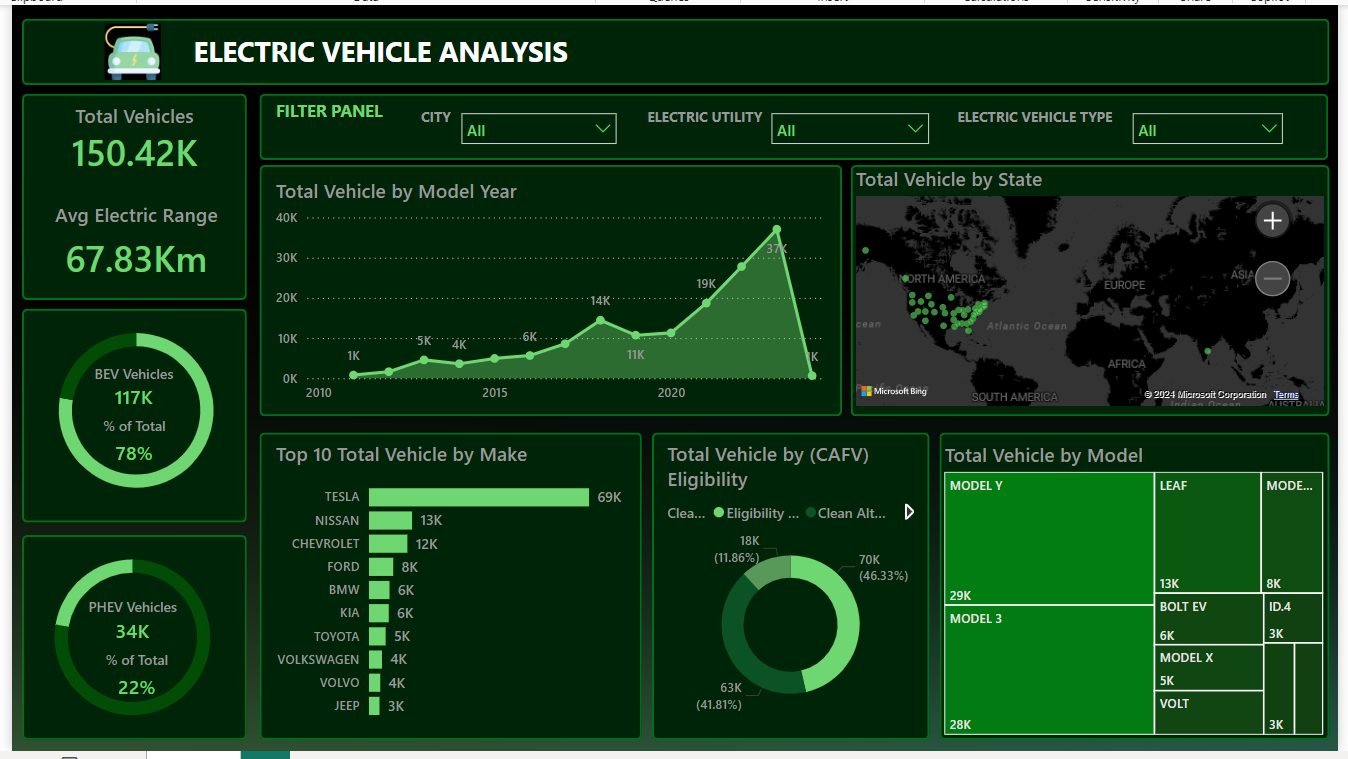

Layout of this report page (visuals, bound fields, positions):
{"tool":"powerbi","page":{"name":"Page 1","canvas":[1280,720],"ordinal":0},"visuals":[{"type":"shape","box":[9.7,13.3,1261.9,63.9],"z":0},{"type":"textbox","box":[170.1,21.7,499.5,45.8],"z":1000},{"type":"shape","box":[9.7,85.7,217.2,199.1],"z":2000},{"type":"shape","box":[9.7,293.2,217.2,206.3],"z":3000},{"type":"shape","box":[9.7,511.5,217.2,197.9],"z":4000},{"type":"shape","box":[809.5,154.4,462.1,242.5],"z":5000},{"type":"shape","box":[238.9,154.4,562.2,242.5],"z":6000},{"type":"shape","box":[895.2,412.6,376.4,296.8],"z":7000},{"type":"shape","box":[617.7,412.6,267.8,296.8],"z":8000},{"type":"shape","box":[238.9,412.6,369.2,296.8],"z":9000},{"type":"card","title":"Total Vehicles","fields":{"Values":["Electric_Vehicle_Population_Data.Total Vehicle"]},"box":[20.5,94.1,195.4,72.4],"z":10000},{"type":"card","title":"Avg Electric Range","fields":{"Values":["Electric_Vehicle_Population_Data.Avg Range"]},"box":[20.5,189.4,199.1,85.7],"z":11000},{"type":"donutChart","fields":{"Category":["Electric_Vehicle_Population_Data.Electric Vehicle Type"],"Y":["Electric_Vehicle_Population_Data.Total Vehicle"]},"box":[20.5,293.2,199.1,196.6],"z":12000},{"type":"card","title":"BEV Vehicles","fields":{"Values":["Electric_Vehicle_Population_Data.BEV Vehicles"]},"box":[50.7,346.2,133.9,50.7],"z":13000},{"type":"card","title":"% of Total","fields":{"Values":["Electric_Vehicle_Population_Data.% of BEV"]},"box":[66.4,396.9,103.8,56.7],"z":14000},{"type":"donutChart","fields":{"Category":["Electric_Vehicle_Population_Data.Electric Vehicle Type"],"Y":["Electric_Vehicle_Population_Data.Total Vehicle"]},"box":[16.9,511.5,199.1,197.9],"z":15000},{"type":"card","title":"PHEV Vehicles","fields":{"Values":["Electric_Vehicle_Population_Data.PHEV Vehicles"]},"box":[49.5,571.9,133.9,50.7],"z":16000},{"type":"card","title":"% of Total","fields":{"Values":["Electric_Vehicle_Population_Data.% of PHEV"]},"box":[68.8,622.5,103.8,56.7],"z":17000},{"type":"areaChart","fields":{"Y":["Electric_Vehicle_Population_Data.Total Vehicle"],"Category":["Electric_Vehicle_Population_Data.Model Year"]},"box":[249.7,166.5,541.7,225.6],"z":18000},{"type":"clusteredBarChart","title":"Top 10 Total Vehicle by Make","fields":{"Y":["Electric_Vehicle_Population_Data.Total Vehicle"],"Category":["Electric_Vehicle_Population_Data.Make"]},"box":[249.7,419.8,343.8,279.9],"z":19000},{"type":"map","fields":{"Category":["Electric_Vehicle_Population_Data.State"],"Y":["Electric_Vehicle_Population_Data.Total Vehicle"]},"box":[809.5,154.4,462.1,237.7],"z":20000},{"type":"donutChart","title":"Total Vehicle by (CAFV) Eligibility","fields":{"Category":["Electric_Vehicle_Population_Data.Clean Alternative Fuel Vehicle (CAFV) Eligibility"],"Y":["Electric_Vehicle_Population_Data.Total Vehicle"]},"box":[627.3,419.8,248.5,277.5],"z":21000},{"type":"treemap","fields":{"Group":["Electric_Vehicle_Population_Data.Model"],"Values":["Electric_Vehicle_Population_Data.Total Vehicle"]},"box":[895.2,421,375.2,288.3],"z":22000},{"type":"shape","box":[238.9,85.7,1031.5,63.9],"z":23000},{"type":"textbox","box":[249.7,85.7,119.4,54.3],"z":24000},{"type":"slicer","fields":{"Values":["Electric_Vehicle_Population_Data.City"]},"box":[423.5,94.1,170.1,55.5],"z":25000},{"type":"textbox","box":[389.7,94.1,43.4,45.8],"z":26000},{"type":"slicer","fields":{"Values":["Electric_Vehicle_Population_Data.Electric Utility"]},"box":[722.7,94.1,172.5,55.5],"z":27000},{"type":"textbox","box":[593.6,94.1,137.5,36.2],"z":28000},{"type":"slicer","fields":{"Values":["Electric_Vehicle_Population_Data.Electric Vehicle Type"]},"box":[1071.3,94.1,165.3,55.5],"z":29000},{"type":"textbox","box":[907.2,94.1,164.1,45.8],"z":30000},{"type":"image","box":[30.2,13.3,172.5,63.9],"z":31000}]}

Visuals, with their boxes on the page's 1280x720 design canvas (x1, y1, x2, y2). These are canvas units, not pixel positions in the 1348x759 screenshot, which may show the page scaled, cropped or inside an application window:
shape: 10,13,1272,77
textbox: 170,22,670,68
shape: 10,86,227,285
shape: 10,293,227,500
shape: 10,512,227,709
shape: 810,154,1272,397
shape: 239,154,801,397
shape: 895,413,1272,709
shape: 618,413,886,709
shape: 239,413,608,709
"Total Vehicles" card: 20,94,216,166
"Avg Electric Range" card: 20,189,220,275
donutChart - Electric_Vehicle_Population_Data.Electric Vehicle Type x Electric_Vehicle_Population_Data.Total Vehicle: 20,293,220,490
"BEV Vehicles" card: 51,346,185,397
"% of Total" card: 66,397,170,454
donutChart - Electric_Vehicle_Population_Data.Electric Vehicle Type x Electric_Vehicle_Population_Data.Total Vehicle: 17,512,216,709
"PHEV Vehicles" card: 50,572,183,623
"% of Total" card: 69,622,173,679
areaChart - Electric_Vehicle_Population_Data.Total Vehicle x Electric_Vehicle_Population_Data.Model Year: 250,166,791,392
"Top 10 Total Vehicle by Make" clusteredBarChart: 250,420,594,700
map - Electric_Vehicle_Population_Data.State x Electric_Vehicle_Population_Data.Total Vehicle: 810,154,1272,392
"Total Vehicle by (CAFV) Eligibility" donutChart: 627,420,876,697
treemap - Electric_Vehicle_Population_Data.Model x Electric_Vehicle_Population_Data.Total Vehicle: 895,421,1270,709
shape: 239,86,1270,150
textbox: 250,86,369,140
slicer - Electric_Vehicle_Population_Data.City: 424,94,594,150
textbox: 390,94,433,140
slicer - Electric_Vehicle_Population_Data.Electric Utility: 723,94,895,150
textbox: 594,94,731,130
slicer - Electric_Vehicle_Population_Data.Electric Vehicle Type: 1071,94,1237,150
textbox: 907,94,1071,140
image: 30,13,203,77
